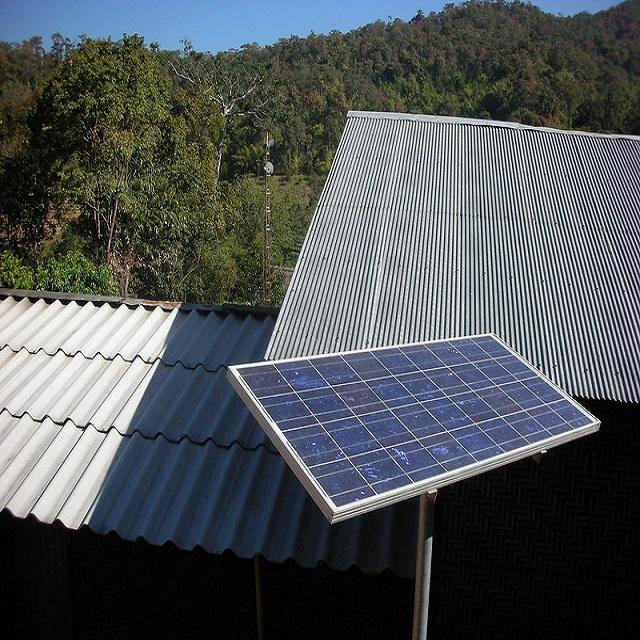no faulty: (238, 330, 595, 505)
